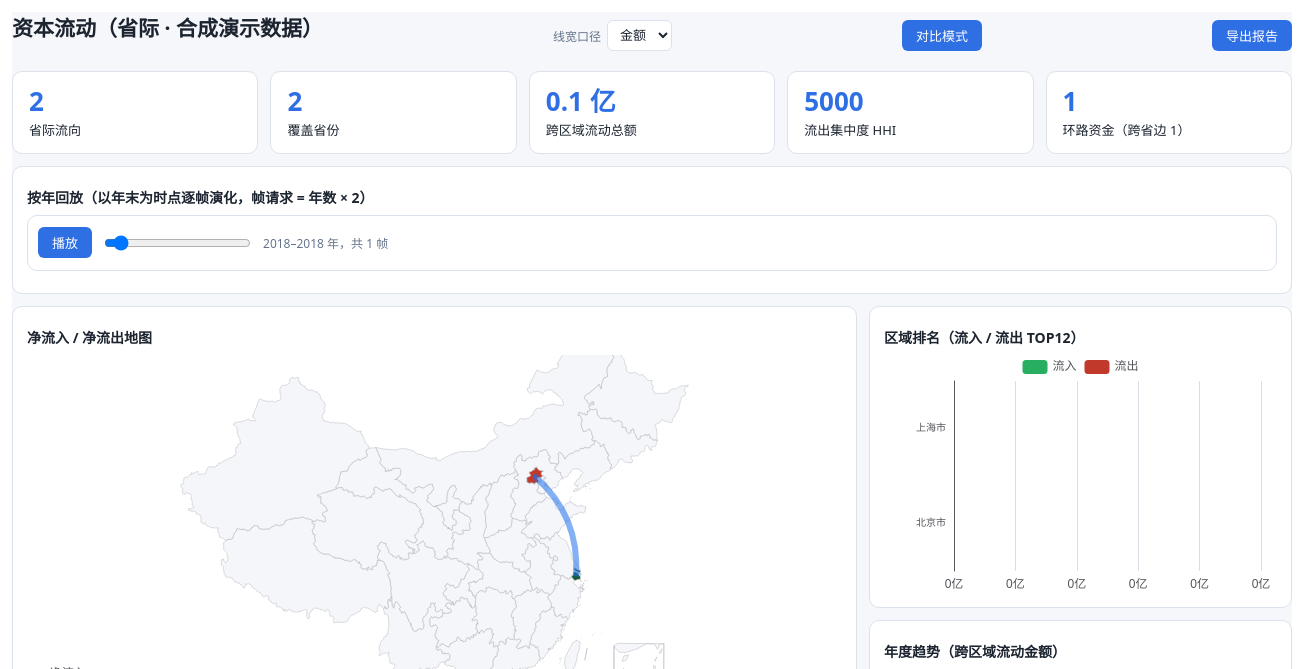
Test case: FlowsPage 按年回放控件 › 点击播放后进入回放帧并显示退出
The width and height of the screenshot is (1304, 669).
Click the button "播放" at (65,243), box [38, 227, 92, 258]
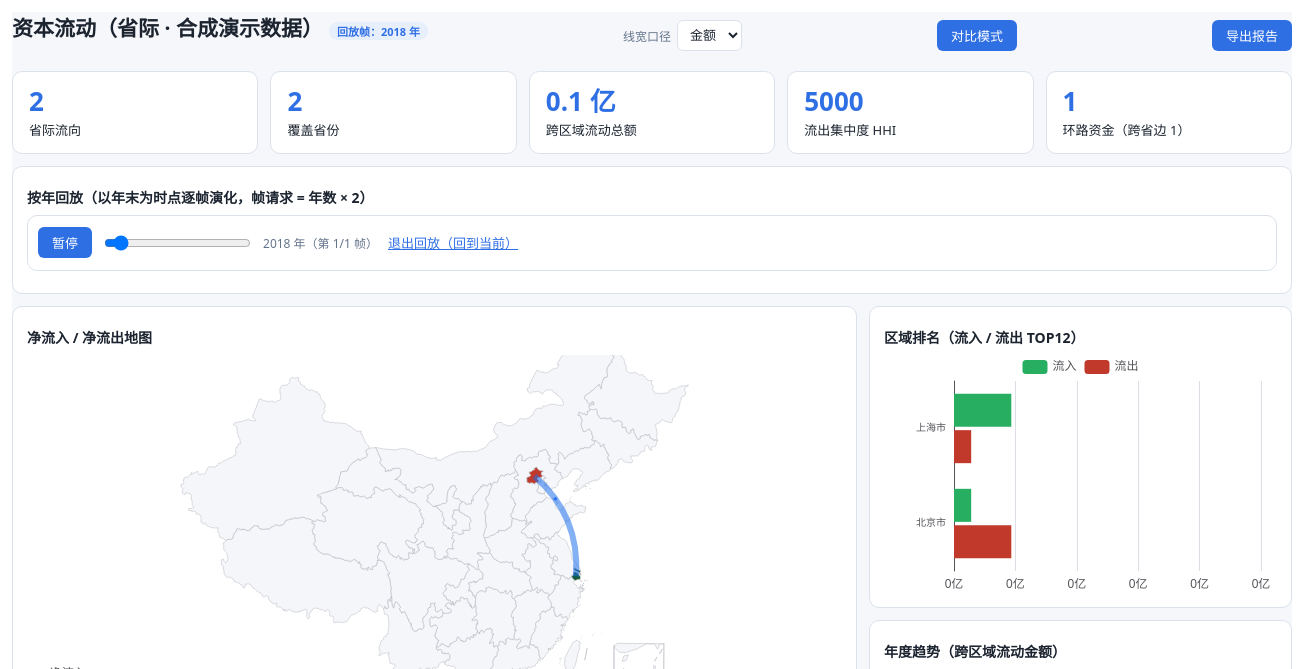
Expected: the text "回放帧：2018 年" is shown, [329, 22, 428, 40]
Expected: the text "2018 年（第 1/1 帧）" is shown, [263, 234, 378, 252]
Expected: the button "暂停" is shown, [38, 227, 92, 258]
